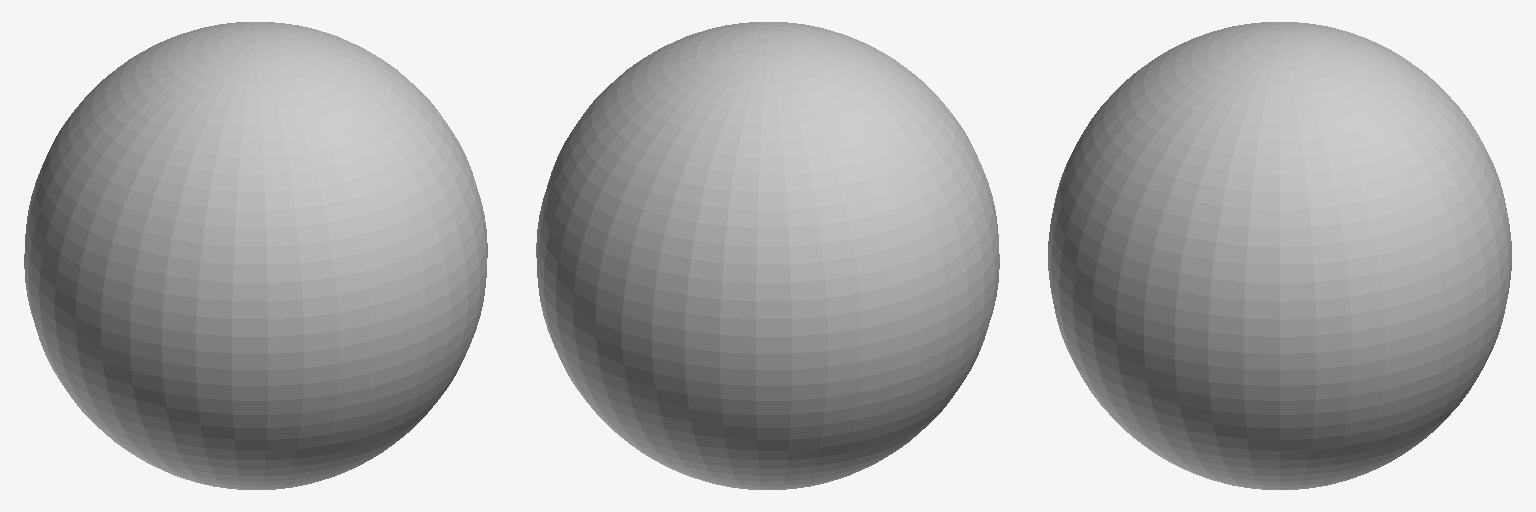
Rendered from SaturnPlanet.obj.
The picture shows the model from 3 angles: view 1: azimuth 30°, elevation 25°; view 2: azimuth 150°, elevation 25°; view 3: azimuth 270°, elevation 25°; orthographic projection.
Parts seen in each view (by area): view 1: Saturn_Planet; view 2: Saturn_Planet; view 3: Saturn_Planet.
Part boxes in pixels (left/top/right/bottom): Saturn_Planet: left=24, top=22, right=487, bottom=489; Saturn_Planet: left=536, top=22, right=999, bottom=489; Saturn_Planet: left=1048, top=22, right=1511, bottom=489.
Bounding box in the file's own units: 3.05 × 3.09 × 3.05.